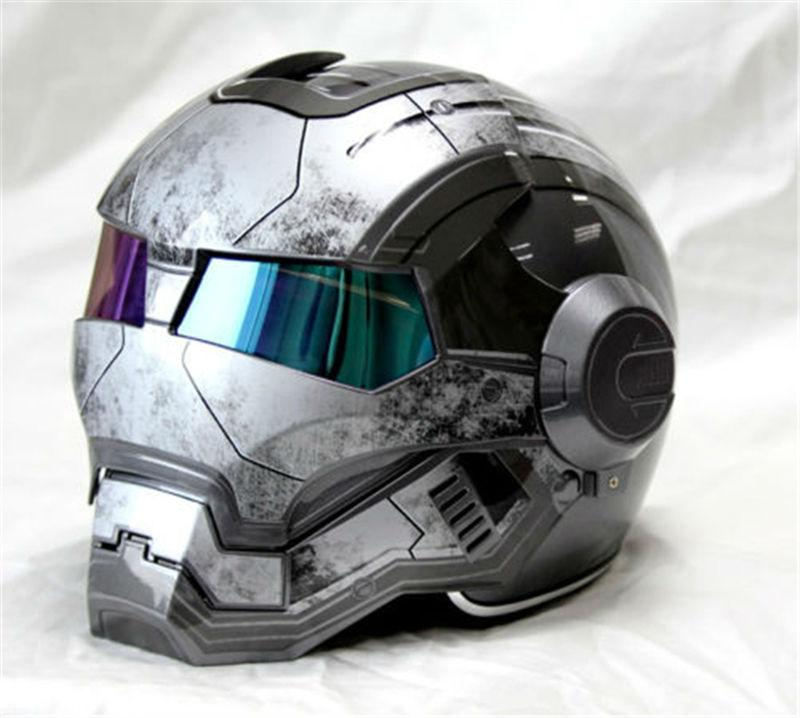with_helmet: (60, 37, 686, 681)
